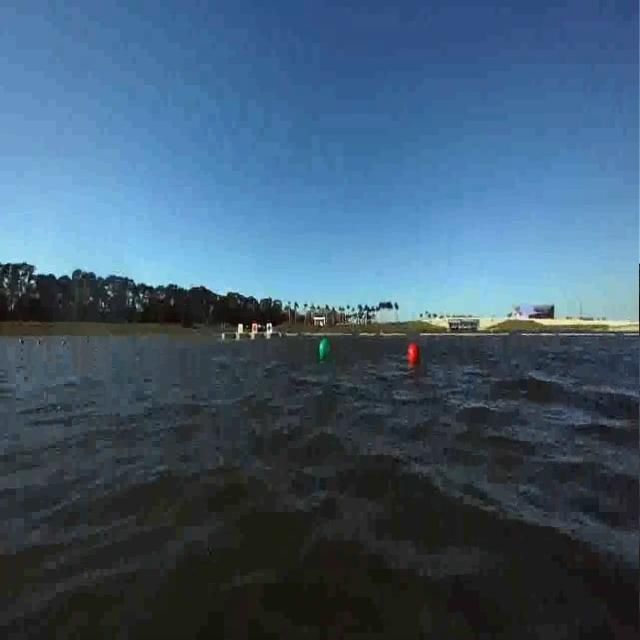green-buoy: (321, 340, 332, 359)
red-buoy: (409, 344, 420, 361)
